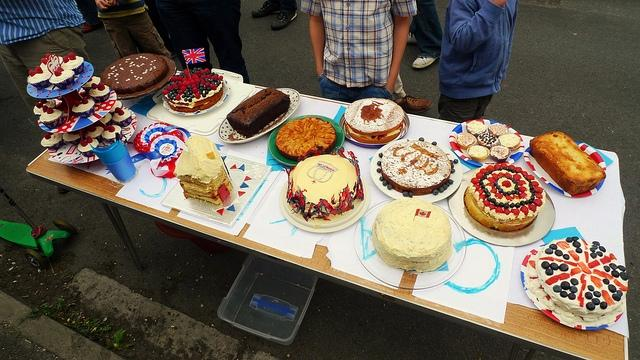strawberry: (602, 289, 616, 306), (576, 261, 592, 274), (592, 269, 607, 279), (590, 276, 602, 288), (545, 275, 559, 285), (568, 250, 580, 261), (556, 242, 570, 250), (600, 255, 611, 264), (613, 279, 625, 287), (570, 268, 582, 276), (557, 273, 570, 280), (520, 206, 529, 216), (548, 256, 563, 262), (510, 208, 520, 216), (532, 198, 542, 206), (534, 187, 544, 194), (512, 174, 522, 181), (502, 180, 512, 187), (491, 173, 499, 181), (528, 205, 537, 212), (502, 209, 511, 216), (487, 177, 496, 184), (474, 188, 484, 194), (539, 257, 554, 261), (470, 178, 480, 184), (518, 193, 528, 199), (504, 195, 514, 201), (80, 140, 88, 147), (54, 70, 62, 77), (504, 172, 512, 179), (483, 200, 491, 207), (118, 108, 125, 116), (46, 107, 54, 114), (69, 52, 76, 60), (479, 168, 488, 174), (486, 182, 495, 188), (494, 193, 503, 199), (619, 286, 629, 291), (29, 70, 36, 77), (44, 133, 51, 140), (495, 207, 503, 213), (486, 165, 494, 171), (476, 173, 484, 179), (582, 242, 588, 250), (490, 188, 498, 194), (535, 192, 543, 198), (518, 180, 526, 186), (494, 164, 502, 170), (195, 92, 201, 100), (584, 252, 588, 263), (108, 126, 115, 132), (489, 204, 496, 210), (610, 253, 616, 260), (473, 184, 480, 190), (82, 98, 89, 104), (200, 74, 207, 80), (210, 84, 217, 90), (526, 175, 534, 180), (582, 280, 586, 290), (478, 195, 486, 200), (580, 297, 584, 307), (578, 288, 582, 298), (212, 74, 218, 80), (172, 76, 178, 82), (92, 83, 98, 89), (516, 166, 522, 172), (191, 84, 197, 90), (183, 82, 190, 87), (508, 165, 515, 170), (162, 89, 168, 94), (46, 53, 50, 60), (200, 80, 205, 85), (500, 164, 508, 167), (188, 78, 194, 81), (202, 70, 206, 74)
